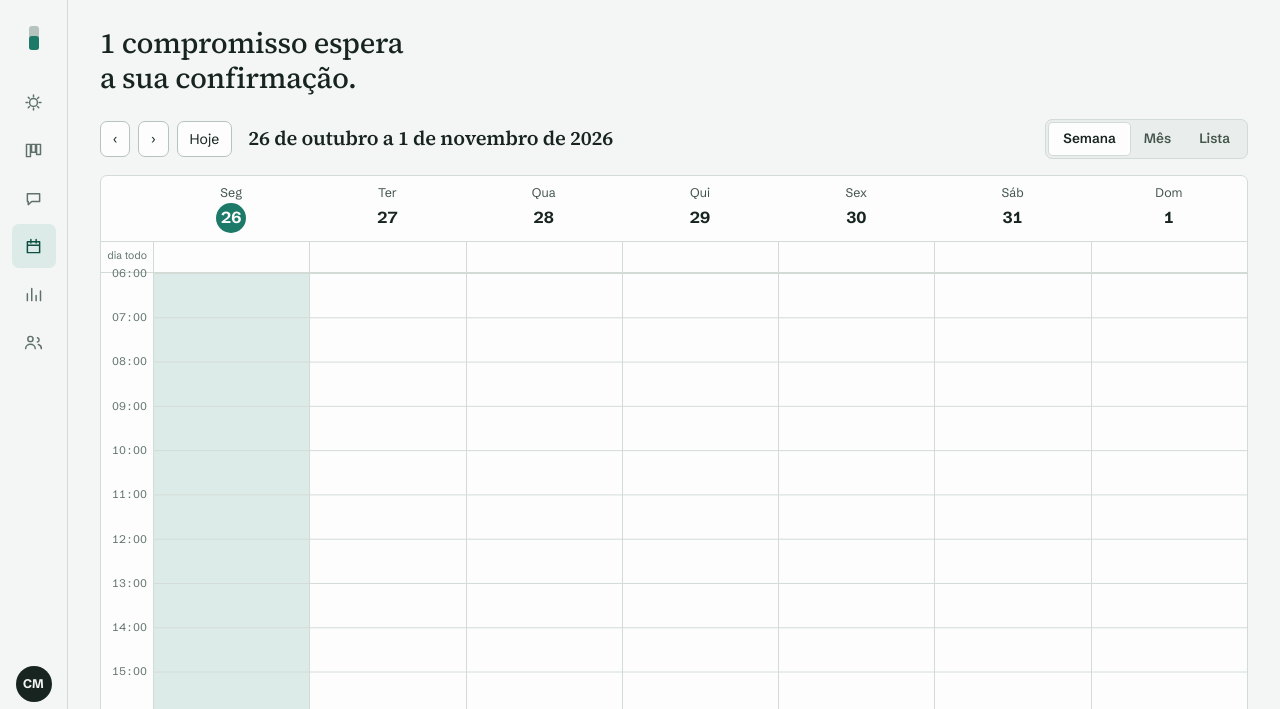
Test: agenda: week › asks the server only for the visible week and moves forward and back
Expected: the heading "26 de outubro a 1 de novembro de 2026" is shown, x1=248 y1=124 x2=613 y2=153
Click the button named "Semana seguinte".
click(153, 139)  # box x1=138 y1=121 x2=169 y2=157
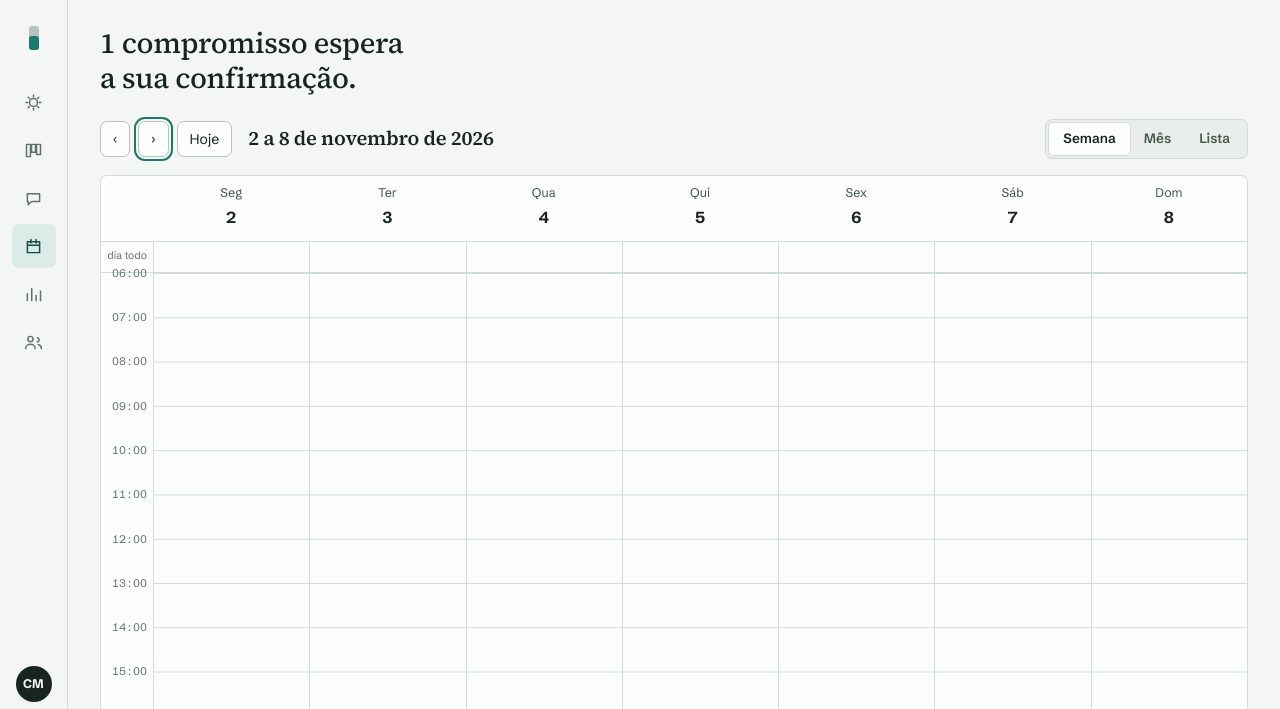
Result: the heading "2 a 8 de novembro de 2026" is shown at x1=248 y1=124 x2=494 y2=153
Click the button "Hoje".
click(204, 139)  # box x1=176 y1=121 x2=232 y2=157
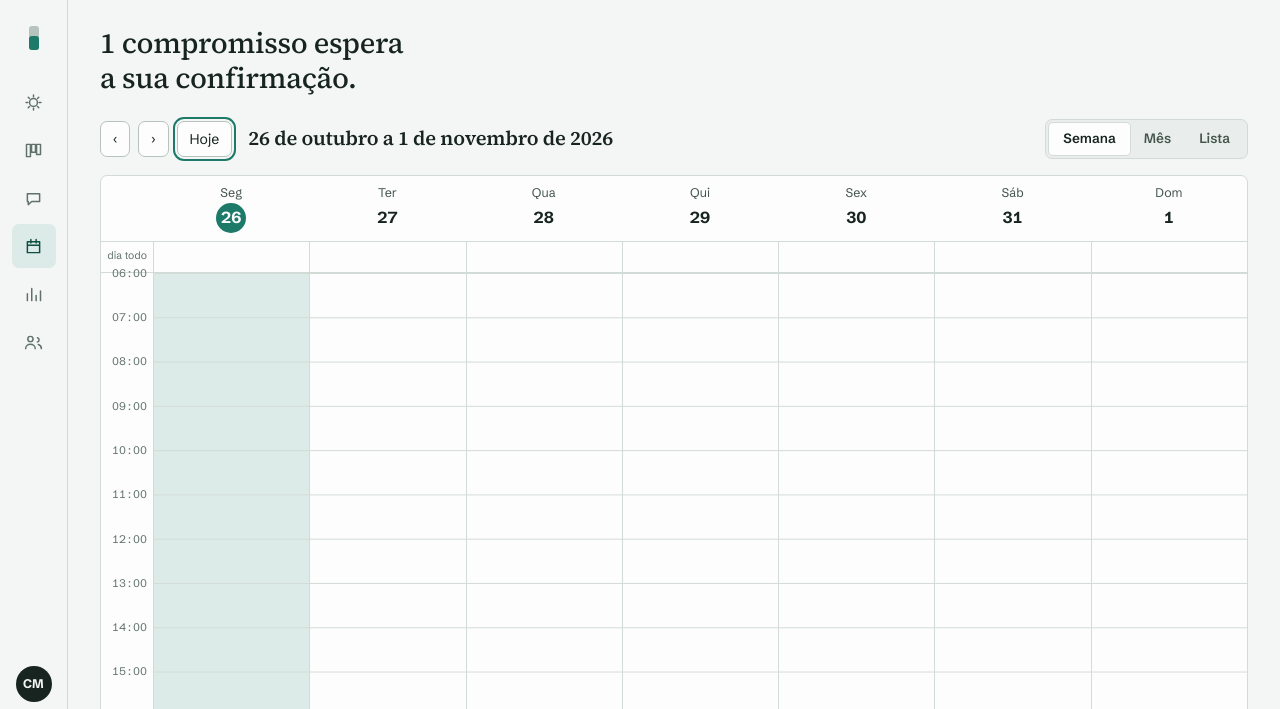
Result: the heading "26 de outubro a 1 de novembro de 2026" is shown at x1=248 y1=124 x2=613 y2=153
